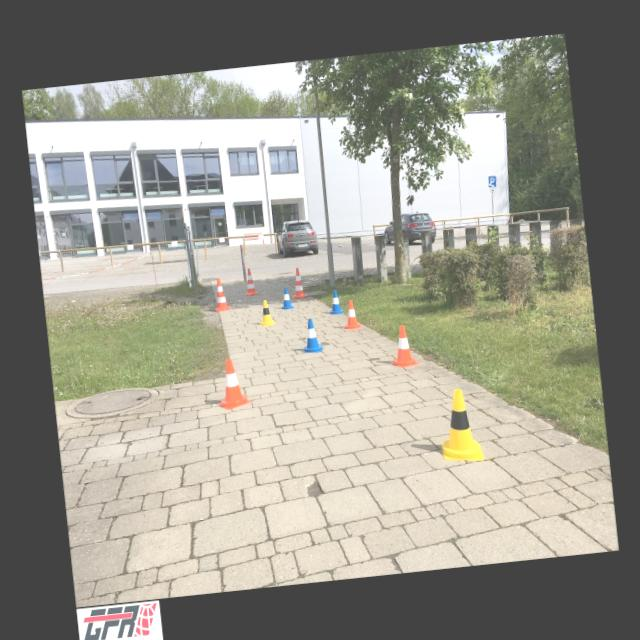blue_cone: (298, 316, 324, 354), (278, 286, 294, 310), (328, 290, 342, 314)
large_orange_cone: (211, 276, 230, 311), (289, 267, 307, 298), (242, 268, 257, 296)
orange_cone: (212, 356, 251, 411), (386, 324, 419, 368), (340, 298, 363, 329)
yellow_cone: (435, 386, 484, 464), (258, 298, 276, 326)
